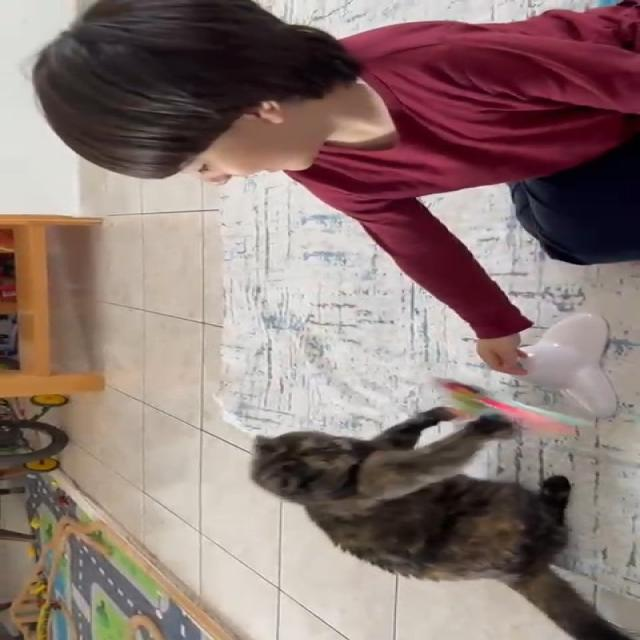authorized: (248, 406, 632, 638)
